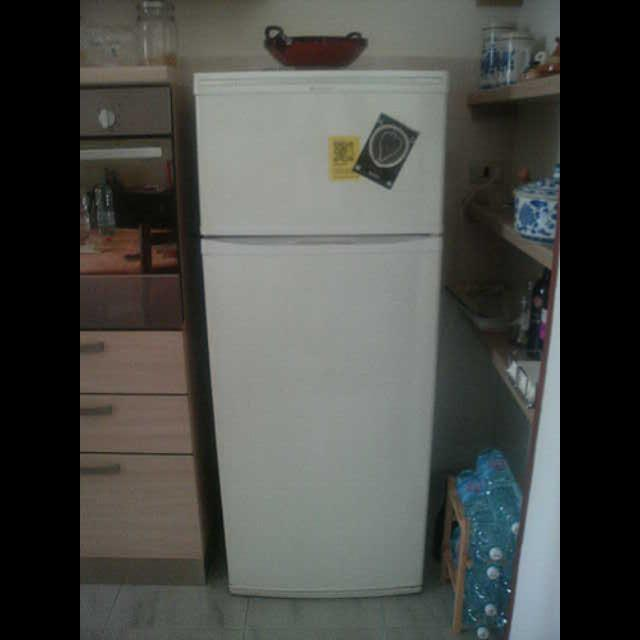Refrigerator: (194, 65, 452, 600)
